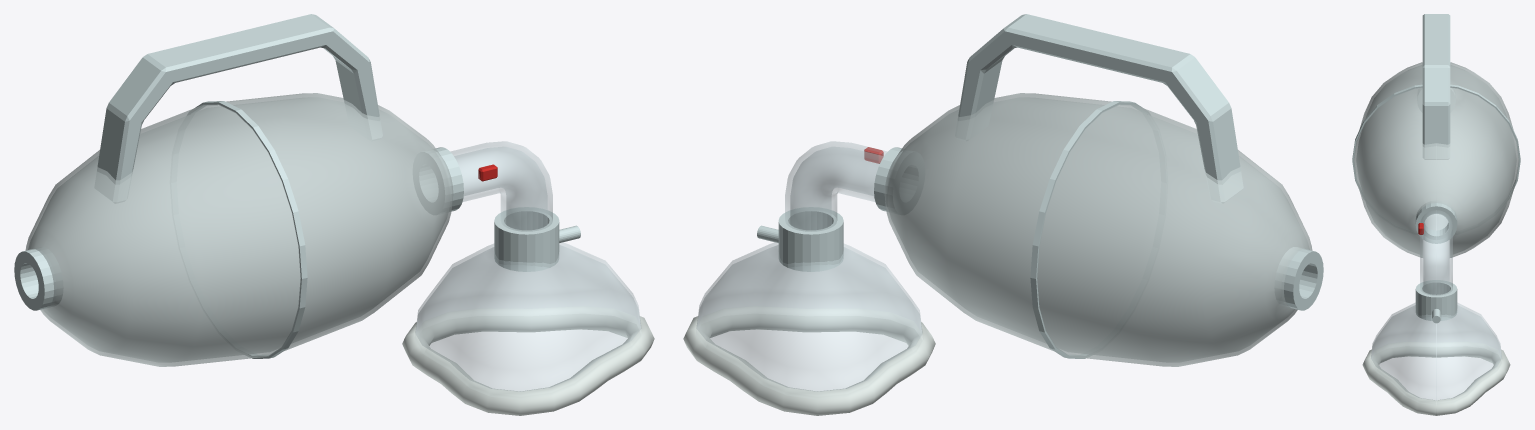
Rendered from full.glb.
3 views of the same model, side by side, from view 1: azimuth 30°, elevation 25°; view 2: azimuth 150°, elevation 25°; view 3: azimuth 270°, elevation 25° (orthographic). The views are drawn at different scales.
Parts seen in each view (by area): view 1: Pale hollow bag shell, Low rounded triangular mask dome, Upper arch hand strap, Pale full cushion rim generic occluded sector, Clear curved external connector, Mask vertical socket, Front bag captured collar, Rear bag exterior collar, Shallow bag middle seam; view 2: Pale hollow bag shell, Low rounded triangular mask dome, Upper arch hand strap, Pale full cushion rim generic occluded sector, Clear curved external connector, Mask vertical socket, Front bag captured collar, Rear bag exterior collar, Shallow bag middle seam; view 3: Pale hollow bag shell, Low rounded triangular mask dome, Pale full cushion rim generic occluded sector, Upper arch hand strap, Clear curved external connector, Mask vertical socket, Front bag captured collar, Shallow bag middle seam.
Part boxes in pixels (left/top/right/bottom): Pale hollow bag shell: left=25, top=93, right=453, bottom=366; Low rounded triangular mask dome: left=415, top=242, right=641, bottom=391; Upper arch hand strap: left=95, top=14, right=382, bottom=203; Pale full cushion rim generic occluded sector: left=402, top=306, right=654, bottom=415; Clear curved external connector: left=450, top=141, right=552, bottom=231; Mask vertical socket: left=494, top=207, right=559, bottom=271; Front bag captured collar: left=413, top=147, right=463, bottom=214; Rear bag exterior collar: left=14, top=247, right=62, bottom=310; Shallow bag middle seam: left=188, top=101, right=307, bottom=358; Pale hollow bag shell: left=884, top=93, right=1312, bottom=366; Low rounded triangular mask dome: left=696, top=242, right=922, bottom=391; Upper arch hand strap: left=955, top=14, right=1242, bottom=203; Pale full cushion rim generic occluded sector: left=683, top=306, right=935, bottom=415; Clear curved external connector: left=785, top=141, right=887, bottom=231; Mask vertical socket: left=778, top=207, right=843, bottom=271; Front bag captured collar: left=874, top=147, right=924, bottom=214; Rear bag exterior collar: left=1275, top=247, right=1323, bottom=310; Shallow bag middle seam: left=1030, top=101, right=1149, bottom=358; Pale hollow bag shell: left=1353, top=62, right=1519, bottom=257; Low rounded triangular mask dome: left=1371, top=303, right=1501, bottom=400; Pale full cushion rim generic occluded sector: left=1362, top=342, right=1510, bottom=415; Upper arch hand strap: left=1422, top=14, right=1450, bottom=159; Clear curved external connector: left=1420, top=210, right=1452, bottom=295; Mask vertical socket: left=1415, top=280, right=1457, bottom=320; Front bag captured collar: left=1415, top=201, right=1457, bottom=243; Shallow bag middle seam: left=1352, top=84, right=1520, bottom=199.
Bounding box in the file's own units: 0.3282 × 0.201 × 0.1216.
